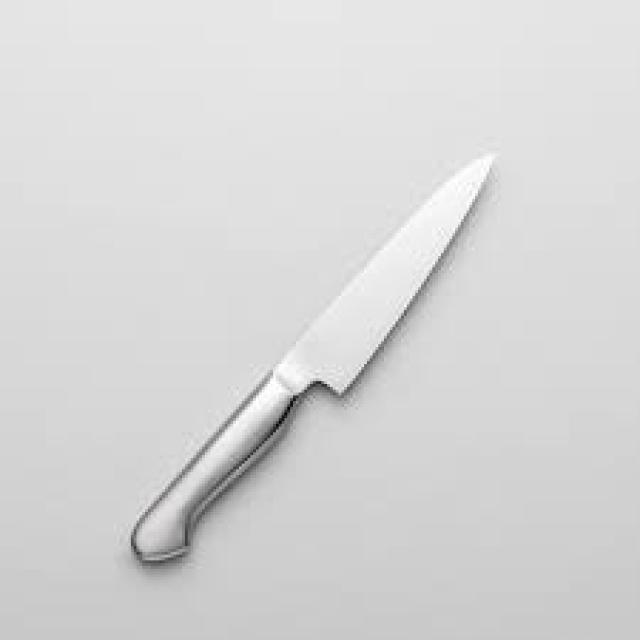Knife: (128, 151, 495, 563)
